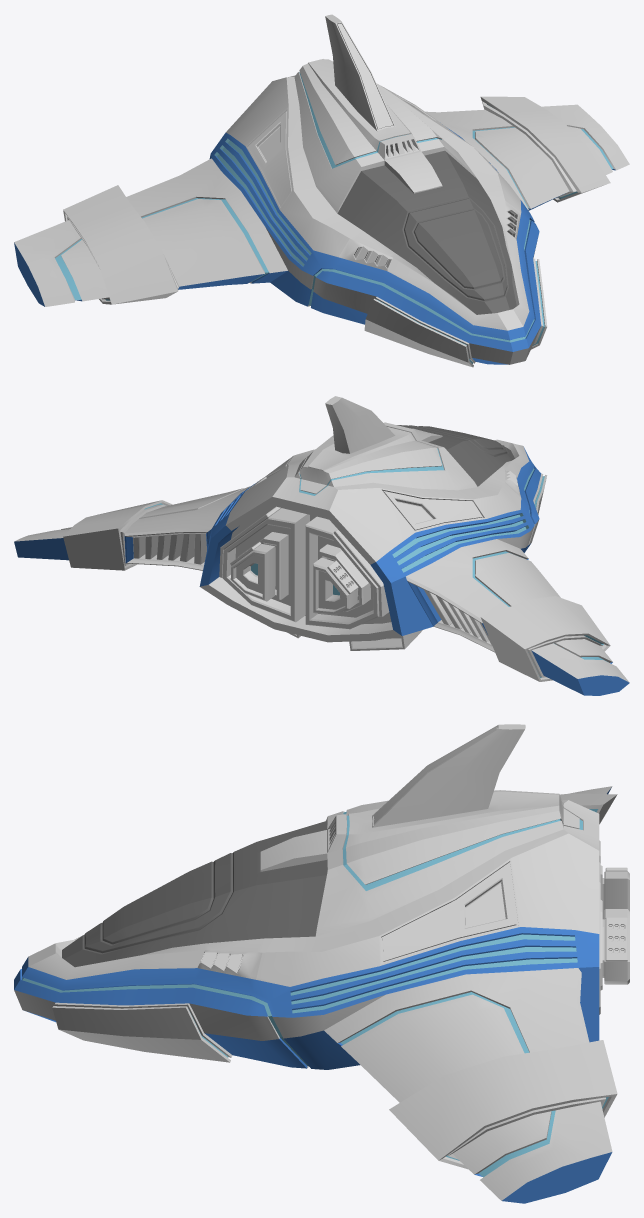
File: fighter.fbx
3 views of the same model, one above another, from view 1: azimuth 30°, elevation 25°; view 2: azimuth 150°, elevation 25°; view 3: azimuth 270°, elevation 25° (orthographic). The views are drawn at different scales.
Parts seen in each view (by area): view 1: Spaceship_Request_Spaceship; view 2: Spaceship_Request_Spaceship; view 3: Spaceship_Request_Spaceship.
Part boxes in pixels (left/top/right/bottom): Spaceship_Request_Spaceship: left=14, top=14, right=629, bottom=367; Spaceship_Request_Spaceship: left=14, top=396, right=629, bottom=695; Spaceship_Request_Spaceship: left=14, top=724, right=629, bottom=1203.
Bounding box in the file's own units: 1066 × 414 × 731.
